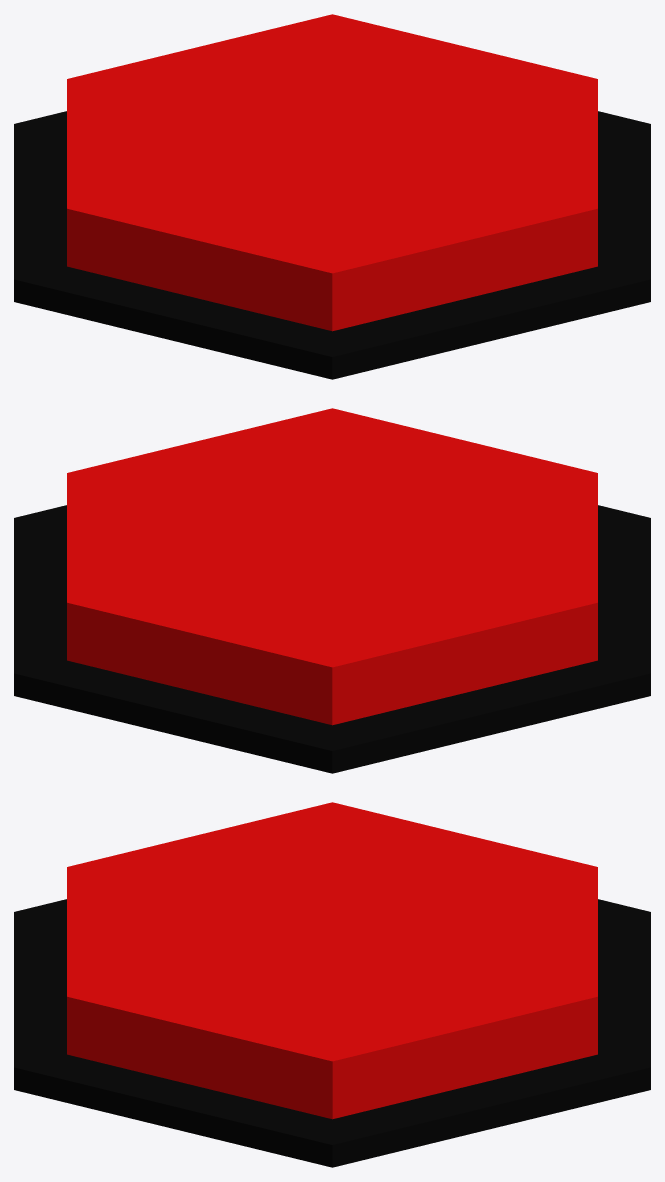
The model's file is Button_RnB_2.fbx.
3 views of the same model, one above another, from view 1: azimuth 30°, elevation 25°; view 2: azimuth 150°, elevation 25°; view 3: azimuth 270°, elevation 25° (orthographic).
Parts seen in each view (by area): view 1: polySurface1; view 2: polySurface1; view 3: polySurface1.
Part boxes in pixels (box(x1,y1,x2,y2)): polySurface1: box(14, 14, 650, 379); polySurface1: box(14, 408, 650, 773); polySurface1: box(14, 802, 650, 1167).
Size of the model in its own units: 7.17 by 0.8651 by 6.21.
